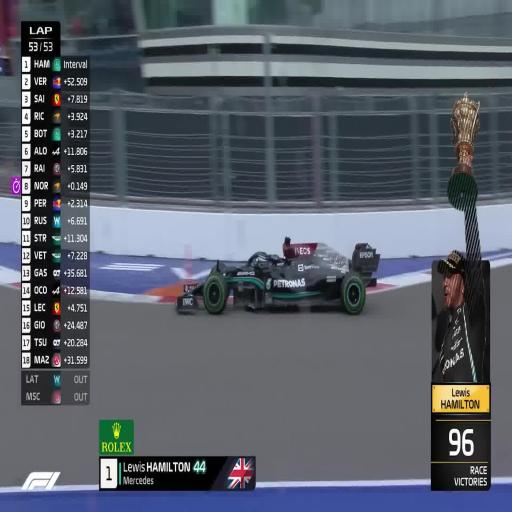f1_car: (177, 237, 380, 313)
